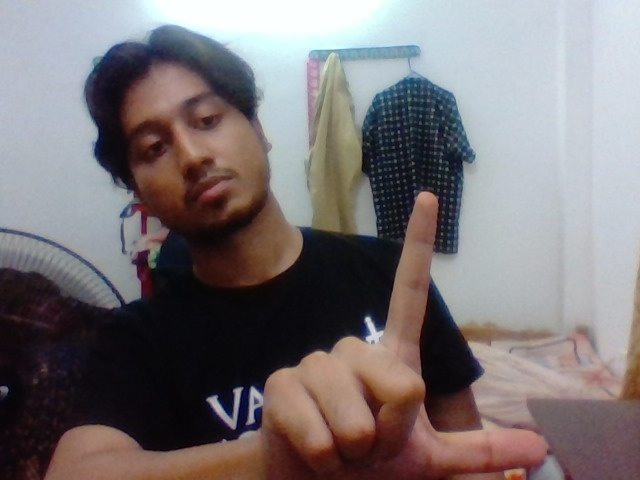L: (313, 169, 574, 473)
